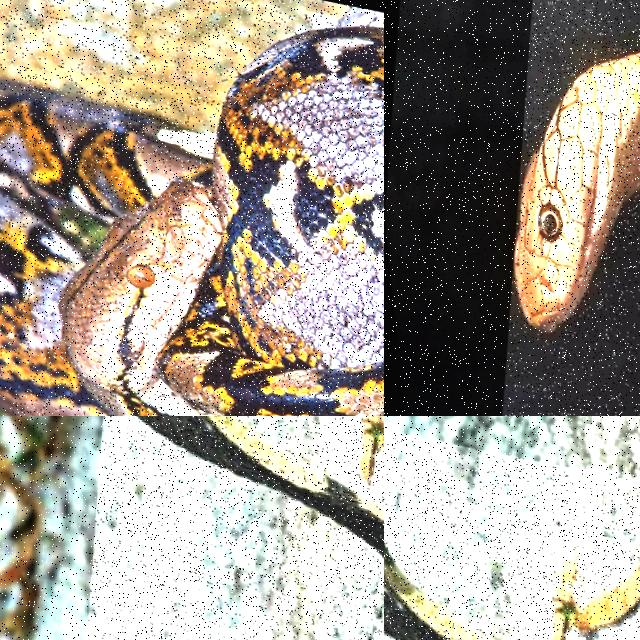Malayopython reticulatus: (0, 7, 383, 415)
Naja siamensis: (136, 416, 383, 557), (384, 544, 492, 639)
Ophiophagus hannah: (515, 54, 639, 331)
snake: (0, 7, 383, 415), (136, 416, 383, 557), (515, 54, 639, 331), (384, 544, 492, 639)
